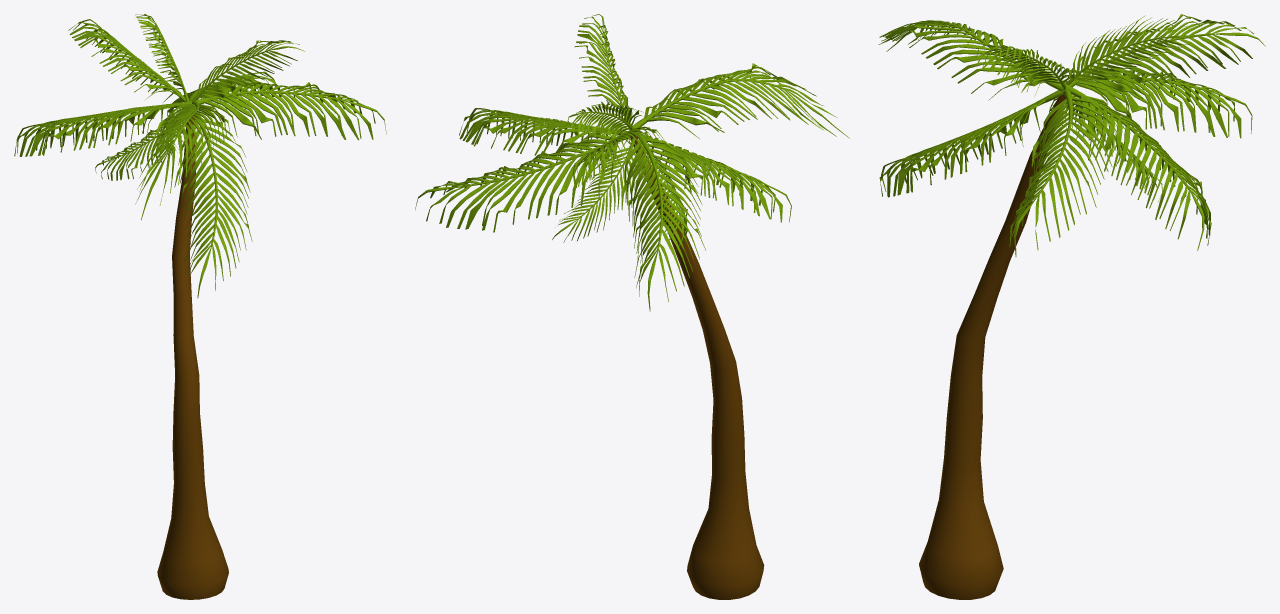
The model's file is PalmTree.fbx.
The picture shows the model from 3 angles, left to right: view 1: azimuth 30°, elevation 25°; view 2: azimuth 150°, elevation 25°; view 3: azimuth 270°, elevation 25°; orthographic projection. The views are drawn at different scales.
Parts seen in each view (by area): view 1: PalmTree; view 2: PalmTree; view 3: PalmTree.
Part boxes in pixels (x1,y1,x2,y2): PalmTree: (14, 14, 386, 599); PalmTree: (415, 14, 849, 599); PalmTree: (878, 14, 1265, 599).
Bounding box in the file's own units: 6.02 × 9.78 × 5.7.
